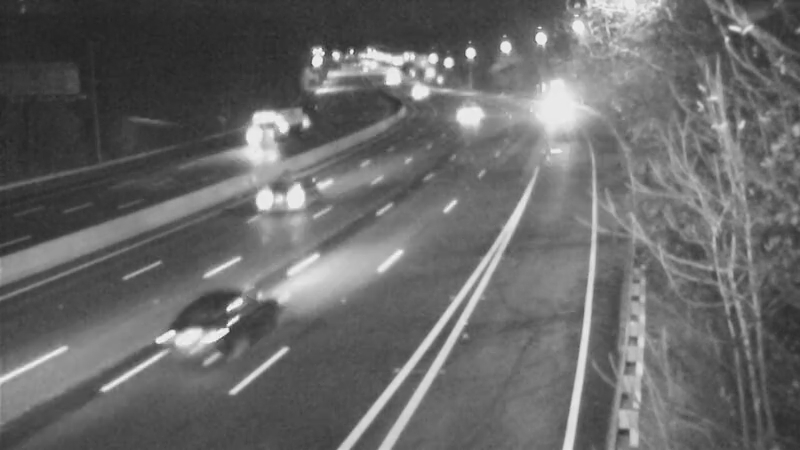vehicle: (150, 285, 260, 395), (235, 154, 315, 234), (392, 63, 442, 113), (437, 88, 487, 138), (527, 90, 577, 140), (230, 111, 280, 161)
